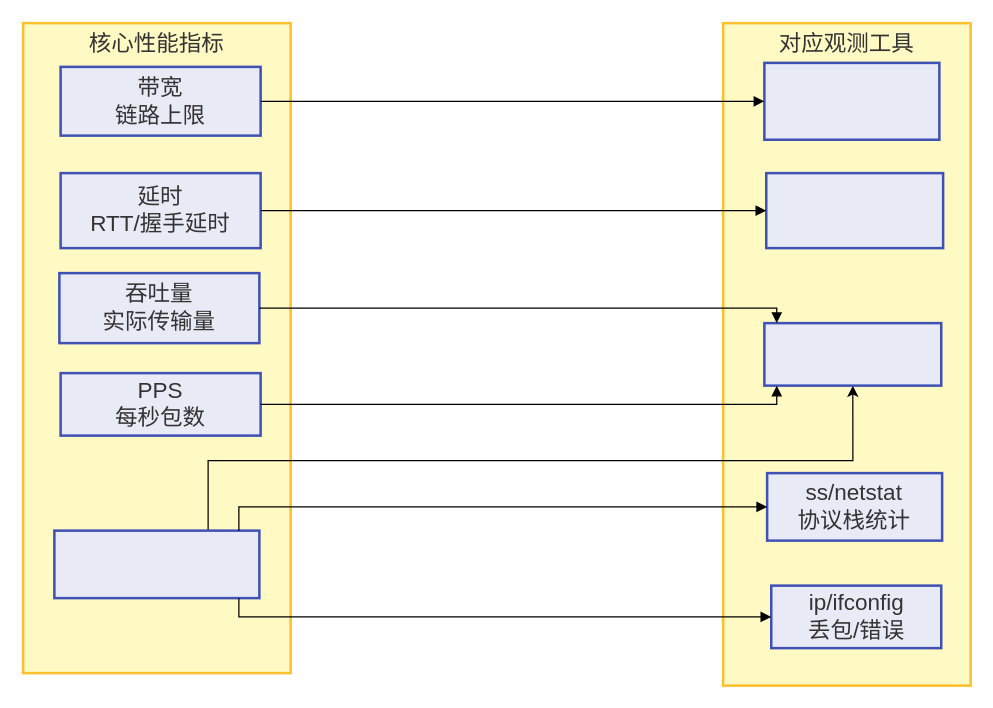
This 993x708 diagram has some shape labels left out. The shapes that lost their labels are listed below. From the top down, each one's centre as x and y in pixels, then its label:
At point 851,100: "ethtool 查带宽".
At point 854,210: "ping 延时/连通性".
At point 852,353: "tcpdump 吞吐量/PPS".
At point 156,564: "丢包率/重传率 稳定性".
